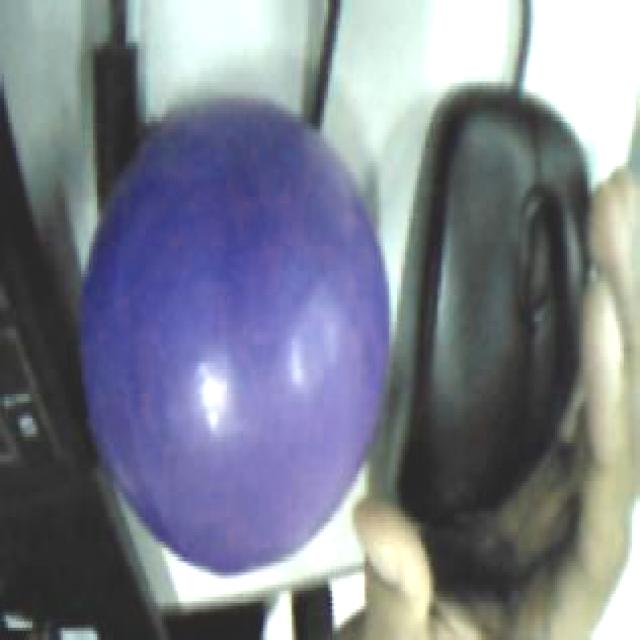BallPurple: (79, 94, 392, 580)
